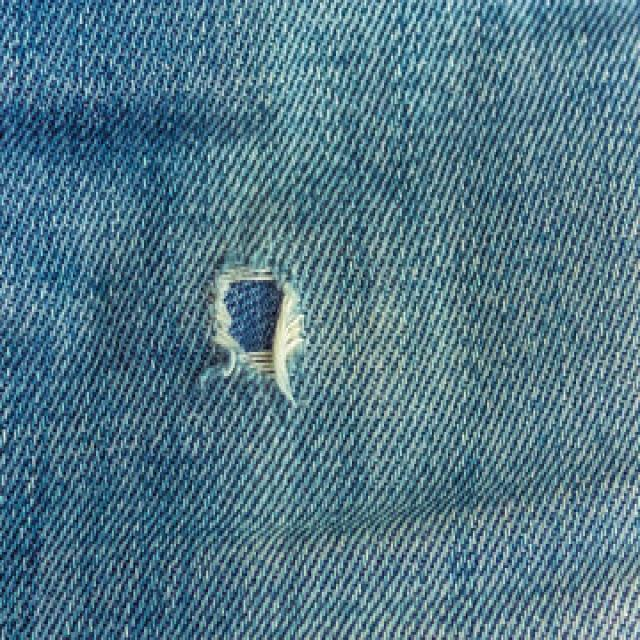Hole: (213, 265, 305, 402)
